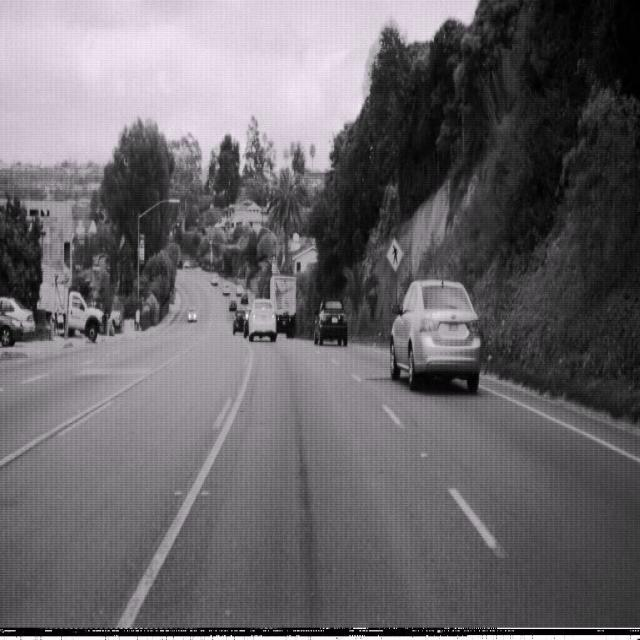pedestrianCrossing: (385, 234, 404, 274)
